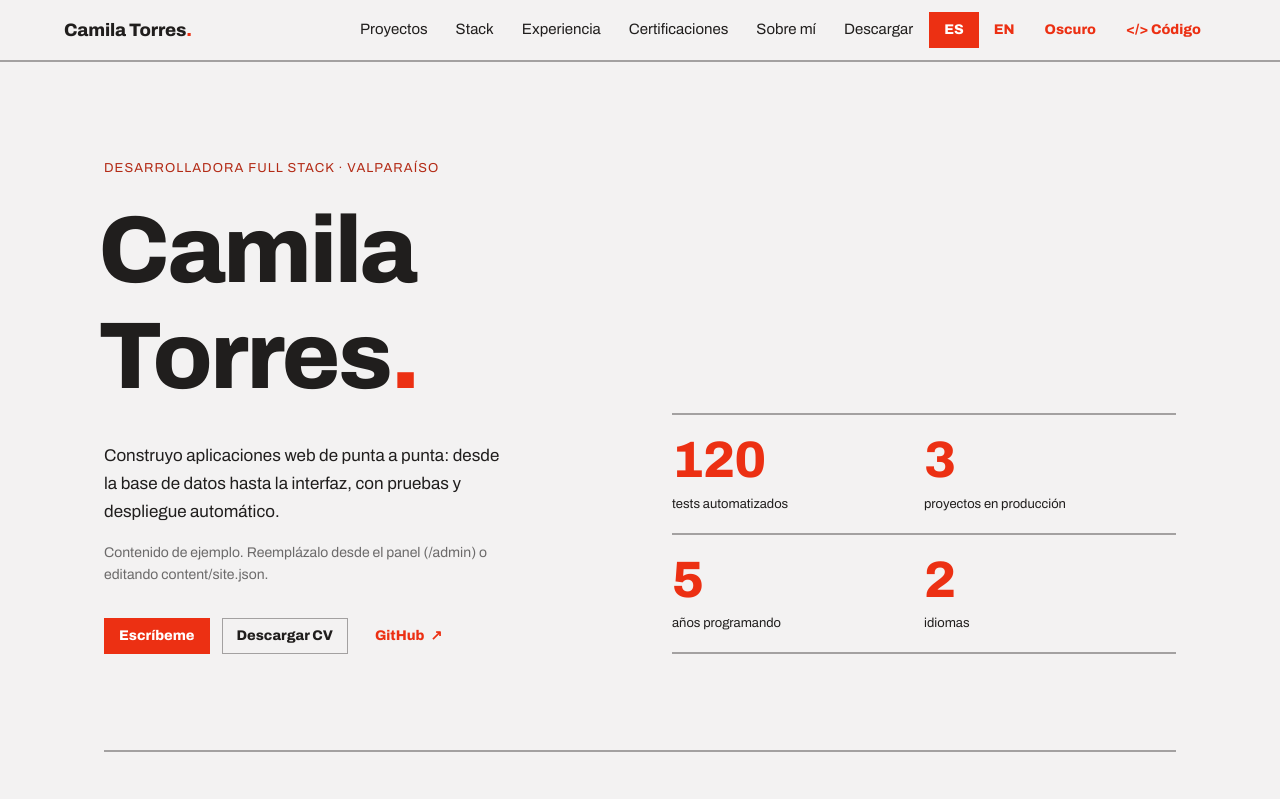
Test: SiteRenderer › el inspector muestra el componente, el archivo y la configuración
The image size is (1280, 799).
Click the button "</> Código". click: (1163, 30)
box: [1111,12,1216,48]
(page scrolled)
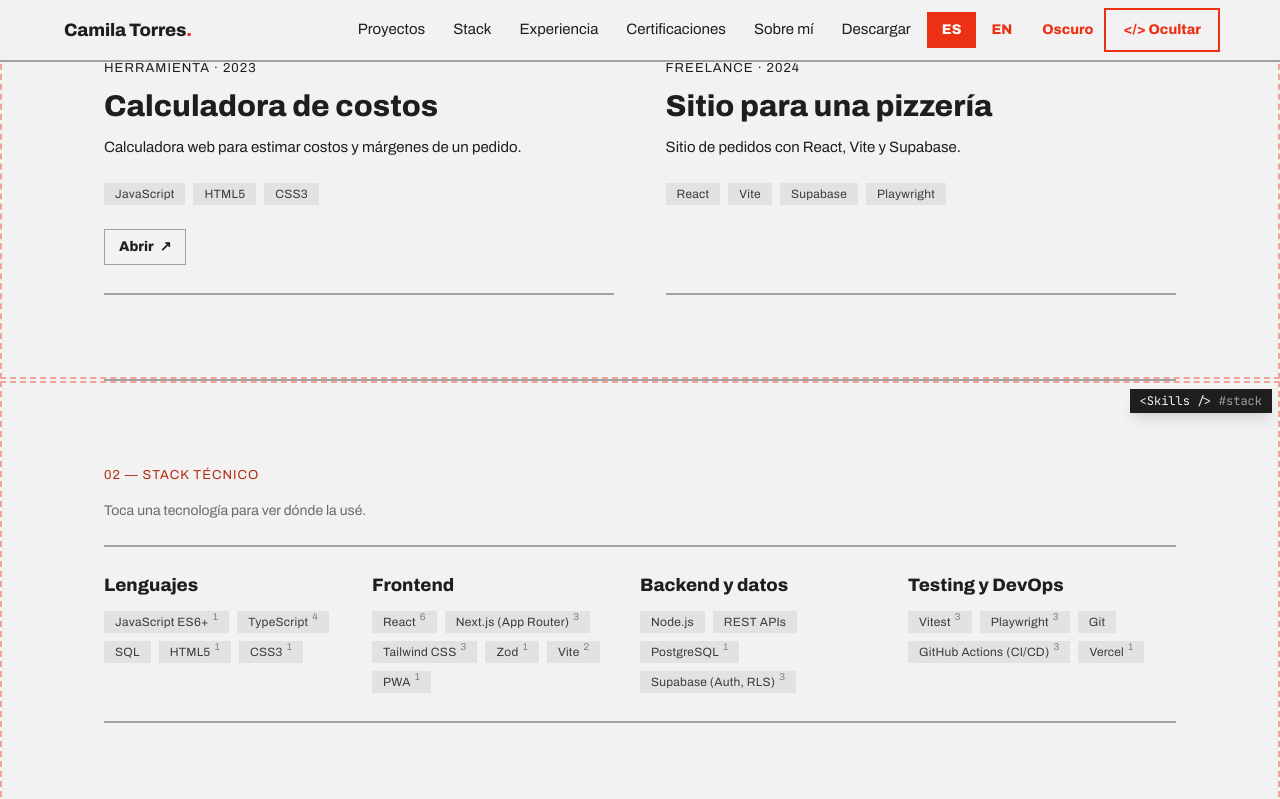
Click the button "<Skills /> #stack". click: (1201, 401)
box: [1130,389,1272,413]
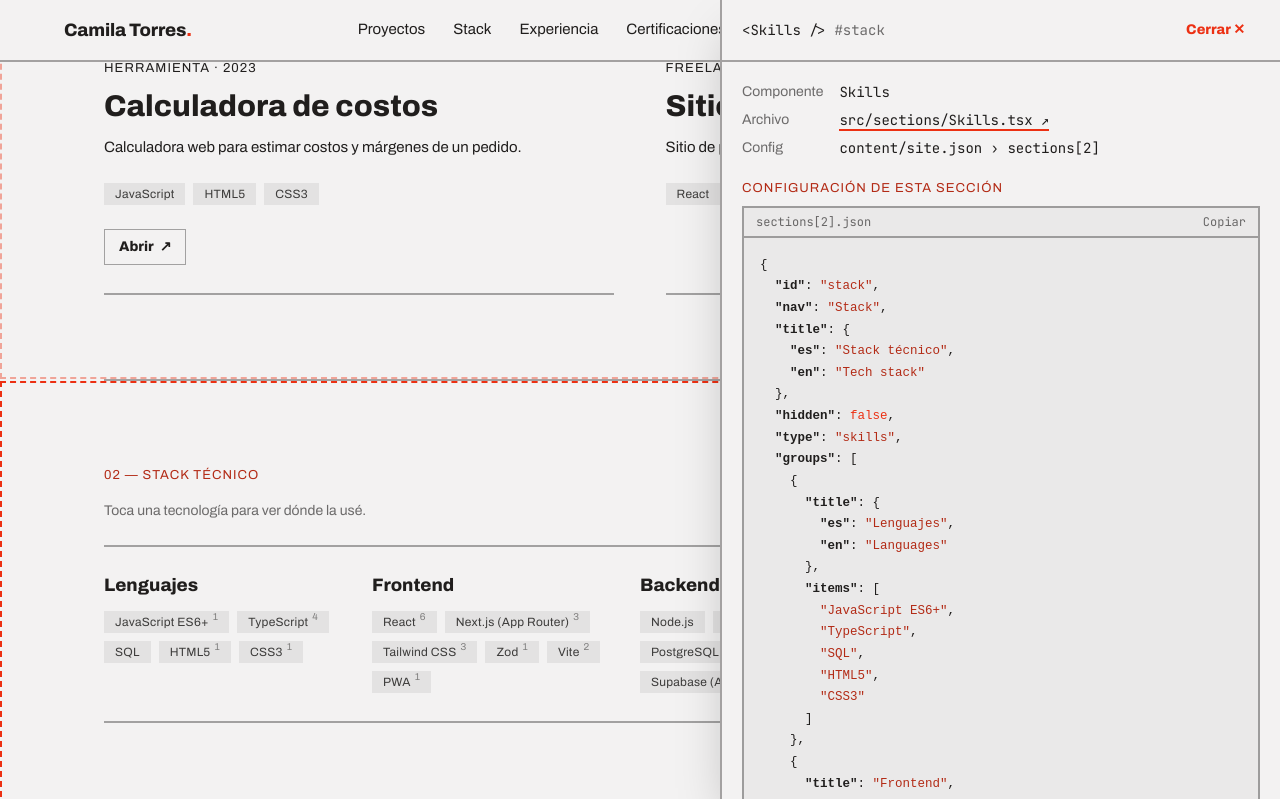
Expected: the link "src/sections/Skills.tsx ↗" is shown, [839,110,1049,130]
Expected: the text "\"type\"" is shown, [775,431,820,445]
Expected: the text "content/site.json › sections[2]" is shown, [839,138,1100,156]
